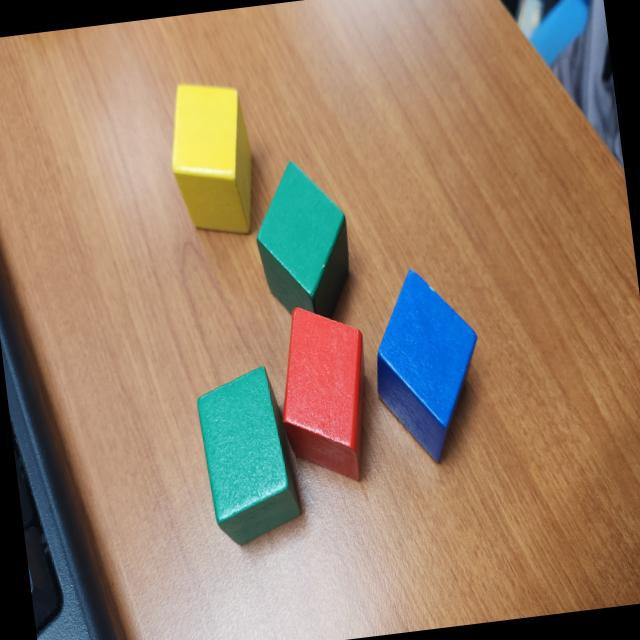blue: (362, 260, 492, 470)
green: (190, 360, 306, 550), (246, 152, 358, 334)
red: (268, 298, 381, 490)
yellow: (159, 75, 264, 244)
